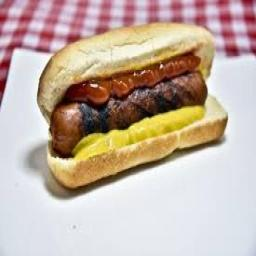hotdog: (28, 20, 227, 192)
